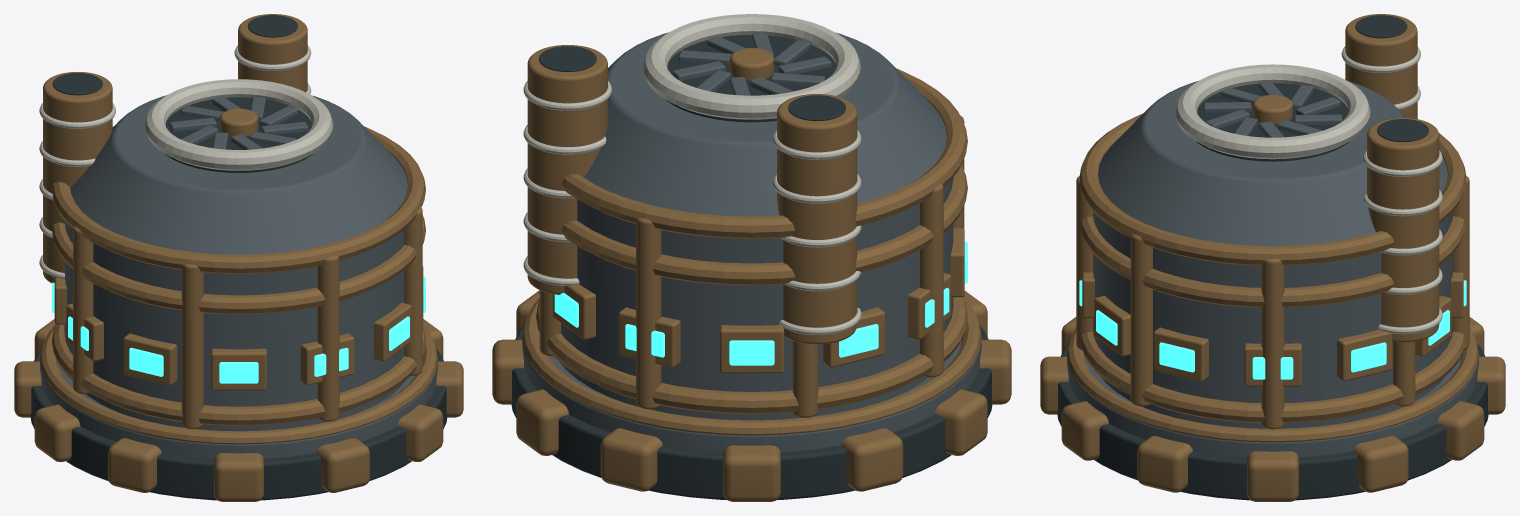
File: centrale.glb
The picture shows the model from 3 angles, left to right: view 1: azimuth 30°, elevation 25°; view 2: azimuth 150°, elevation 25°; view 3: azimuth 270°, elevation 25°; orthographic projection. The views are drawn at different scales.
Parts seen in each view (by area): view 1: Capot bombé, Cuve principale, Semelle démontable, Collier de cuve, Couronne de ventilation, Ceinture du châssis, Collier de cuve.001, Collier de cuve.002, Échangeur.001, Châssis, Montant de cuve.005, Échangeur (+25 smaller); view 2: Capot bombé, Cuve principale, Échangeur.001, Semelle démontable, Échangeur, Couronne de ventilation, Collier de cuve, Ceinture du châssis, Collier de cuve.001, Collier de cuve.002, Châssis, Montant de cuve.002 (+35 smaller); view 3: Capot bombé, Cuve principale, Échangeur, Semelle démontable, Collier de cuve, Couronne de ventilation, Collier de cuve.001, Ceinture du châssis, Collier de cuve.002, Châssis, Échangeur.001, Montant de cuve (+29 smaller).
Boxes of the visible parts, x1=… form: Capot bombé: x1=70, y1=95, x2=407, y2=254; Cuve principale: x1=64, y1=221, x2=404, y2=431; Semelle démontable: x1=30, y1=349, x2=447, y2=500; Collier de cuve: x1=52, y1=126, x2=425, y2=274; Couronne de ventilation: x1=144, y1=79, x2=333, y2=170; Ceinture du châssis: x1=40, y1=325, x2=437, y2=444; Collier de cuve.001: x1=52, y1=324, x2=425, y2=425; Collier de cuve.002: x1=52, y1=215, x2=425, y2=314; Échangeur.001: x1=43, y1=72, x2=112, y2=283; Châssis: x1=40, y1=361, x2=437, y2=458; Montant de cuve.005: x1=181, y1=264, x2=203, y2=428; Échangeur: x1=238, y1=14, x2=307, y2=92; Capot bombé: x1=584, y1=32, x2=946, y2=216; Cuve principale: x1=560, y1=177, x2=953, y2=420; Échangeur.001: x1=777, y1=94, x2=857, y2=344; Semelle démontable: x1=511, y1=326, x2=992, y2=499; Échangeur: x1=527, y1=45, x2=607, y2=294; Couronne de ventilation: x1=643, y1=14, x2=860, y2=119; Collier de cuve: x1=561, y1=68, x2=967, y2=238; Ceinture du châssis: x1=522, y1=298, x2=981, y2=435; Collier de cuve.001: x1=536, y1=297, x2=967, y2=414; Collier de cuve.002: x1=561, y1=165, x2=967, y2=285; Châssis: x1=522, y1=339, x2=981, y2=452; Montant de cuve.002: x1=636, y1=218, x2=661, y2=409; Capot bombé: x1=1098, y1=81, x2=1447, y2=245; Cuve principale: x1=1093, y1=212, x2=1452, y2=428; Échangeur: x1=1367, y1=118, x2=1439, y2=342; Semelle démontable: x1=1057, y1=344, x2=1488, y2=500; Collier de cuve: x1=1079, y1=113, x2=1466, y2=265; Couronne de ventilation: x1=1175, y1=64, x2=1370, y2=159; Collier de cuve.001: x1=1080, y1=331, x2=1465, y2=422; Ceinture du châssis: x1=1067, y1=327, x2=1478, y2=442; Collier de cuve.002: x1=1080, y1=216, x2=1465, y2=307; Châssis: x1=1067, y1=356, x2=1478, y2=457; Échangeur.001: x1=1345, y1=14, x2=1417, y2=118; Montant de cuve: x1=1261, y1=259, x2=1284, y2=429.
Bounding box in the file's own units: 3.22 × 2.52 × 3.22.
